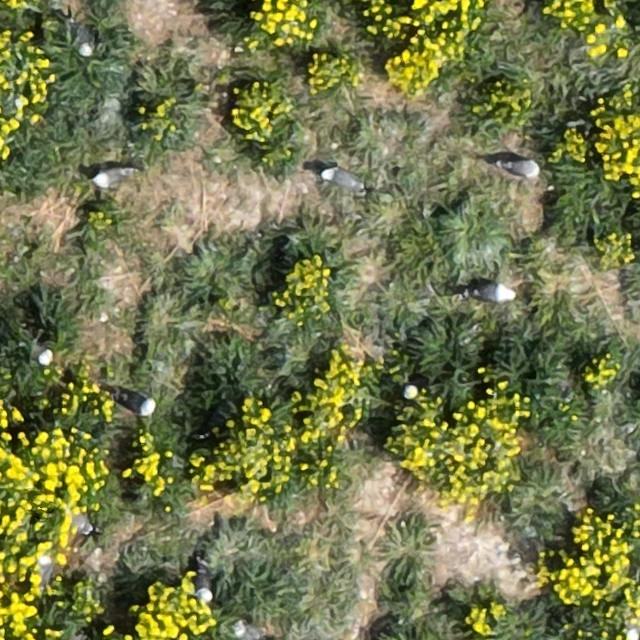umineko: (22, 328, 55, 366), (118, 394, 154, 415), (72, 20, 94, 54), (324, 168, 361, 188), (472, 285, 512, 303), (501, 159, 538, 177), (93, 167, 125, 186), (195, 568, 210, 602), (37, 555, 53, 585)
